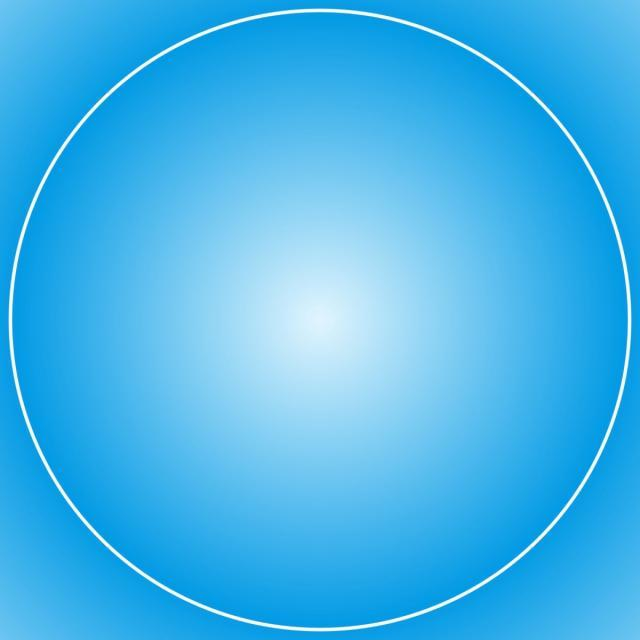Circle: (8, 9, 632, 632)
